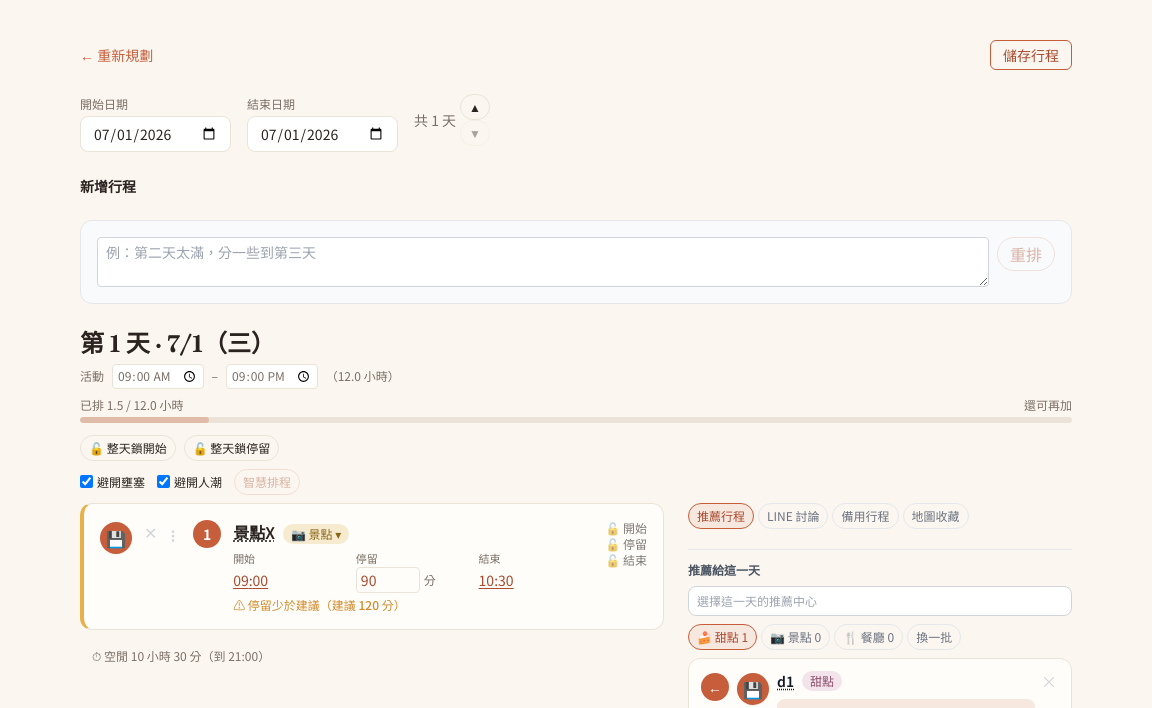
leaves the slot empty when Google returns nothing (no crash)
Click the button with test id "rec-add-d1": (715, 687) [701,673,729,701]
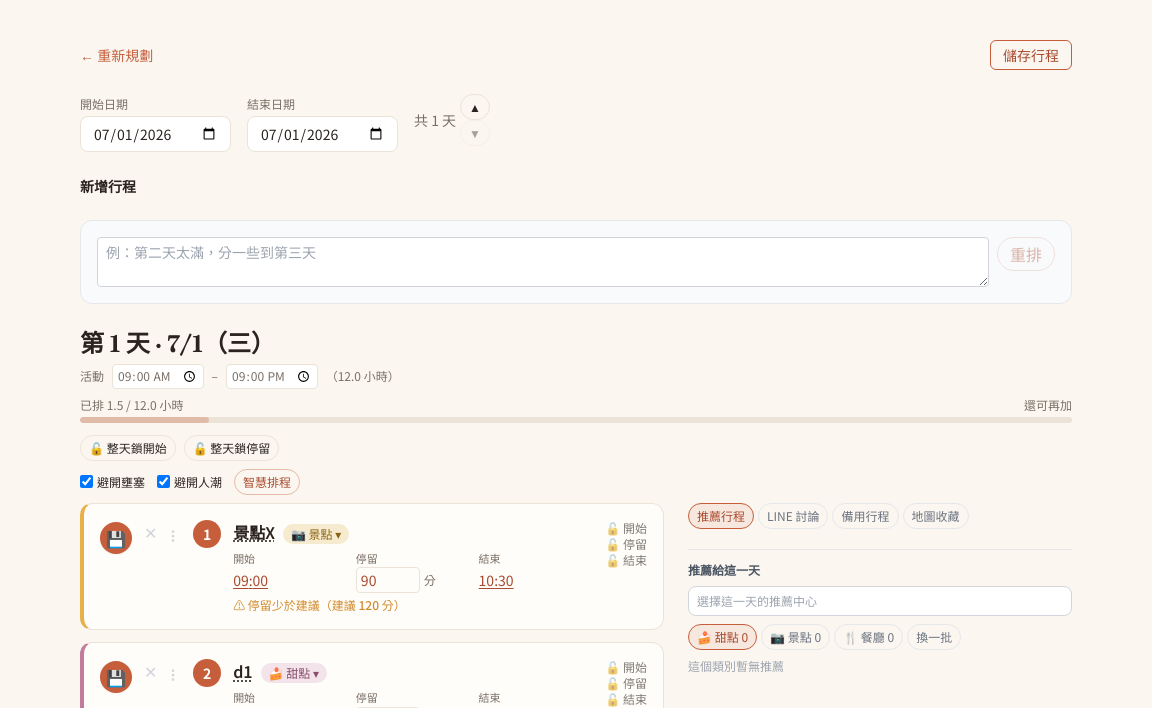
Expected: the link "d1" is shown, [233,659,253,683]
Expected: the button with test id "rec-add-d1" is gone
